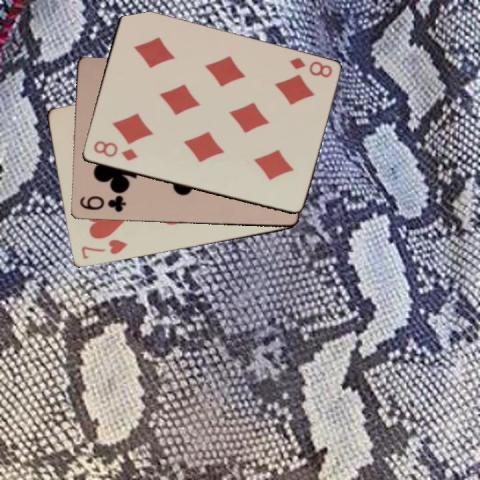6c: (76, 193, 126, 214)
7h: (78, 236, 128, 260)
8d: (90, 138, 139, 163), (286, 54, 333, 79)
